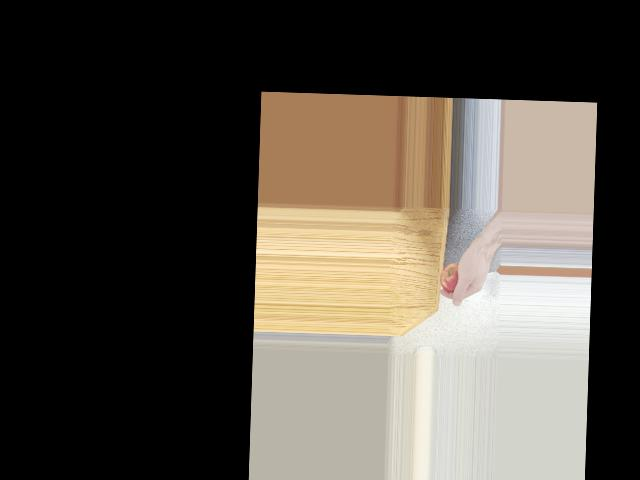apple: (439, 256, 471, 295)
